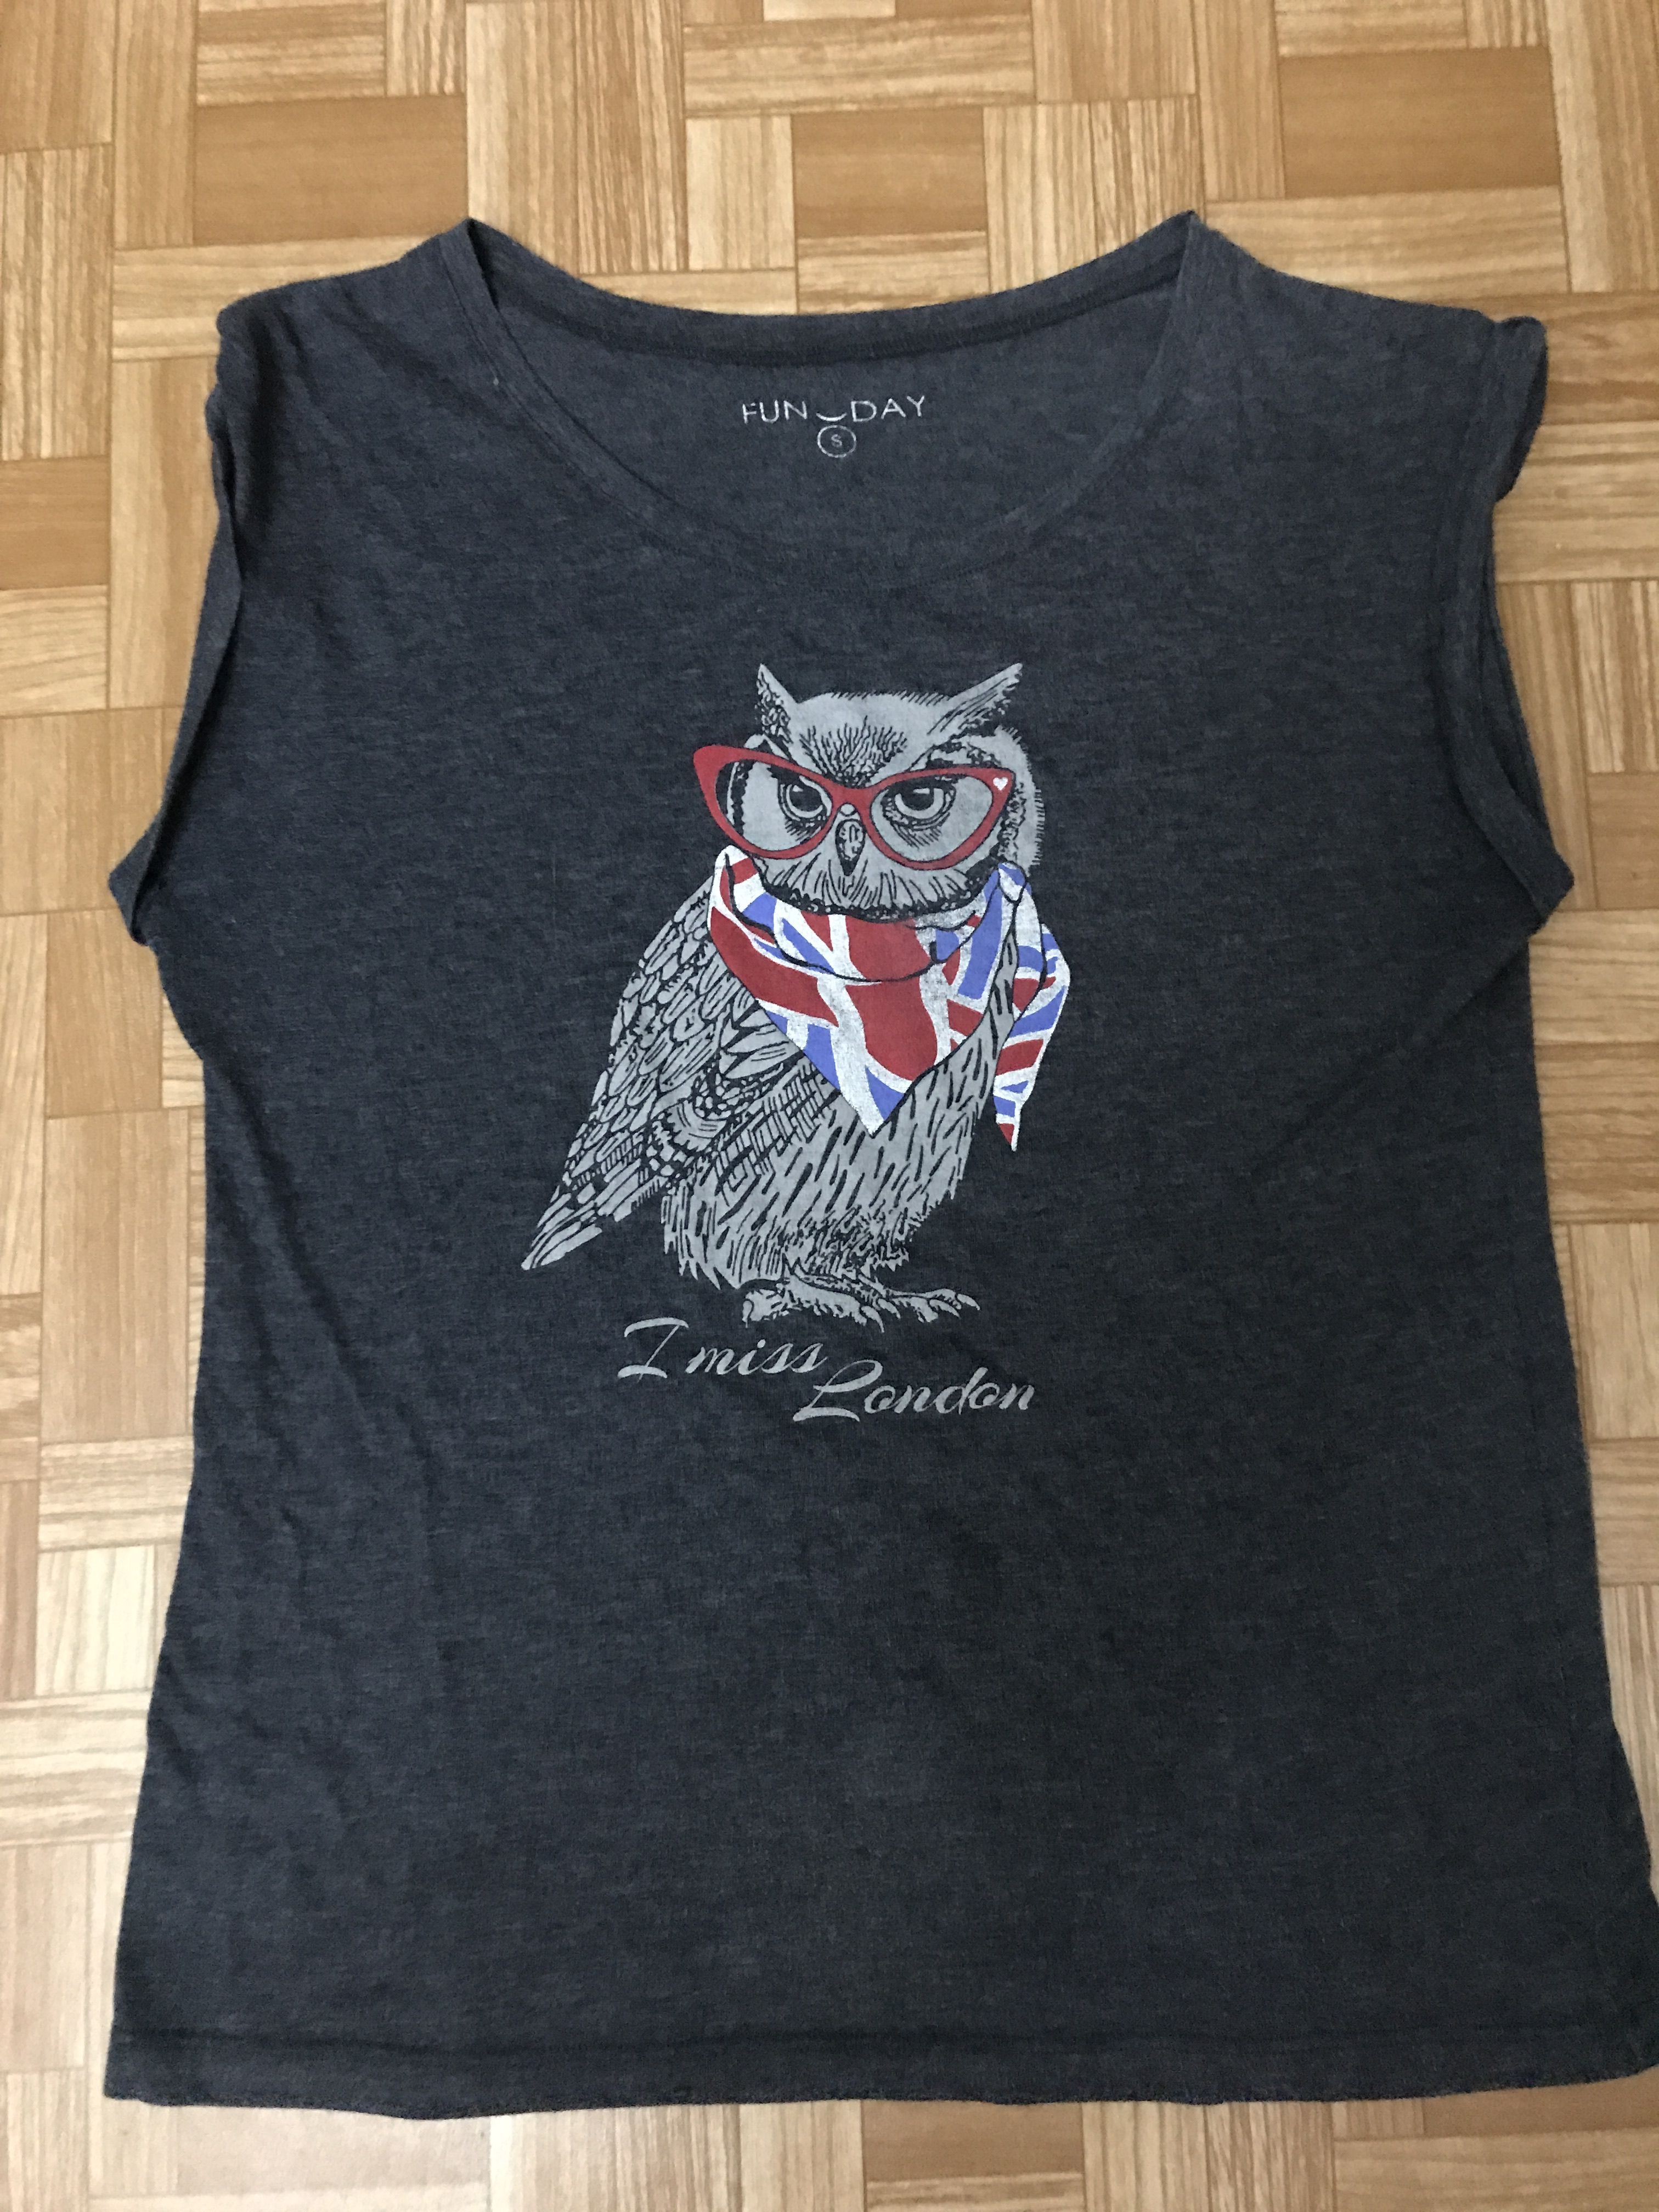clothes: (61, 223, 1659, 2101)
